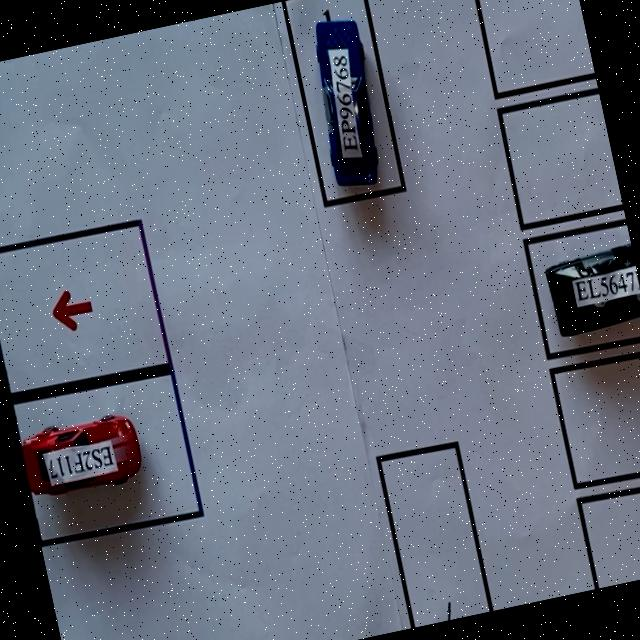car: (317, 11, 377, 185), (23, 416, 141, 494), (546, 245, 640, 336)
